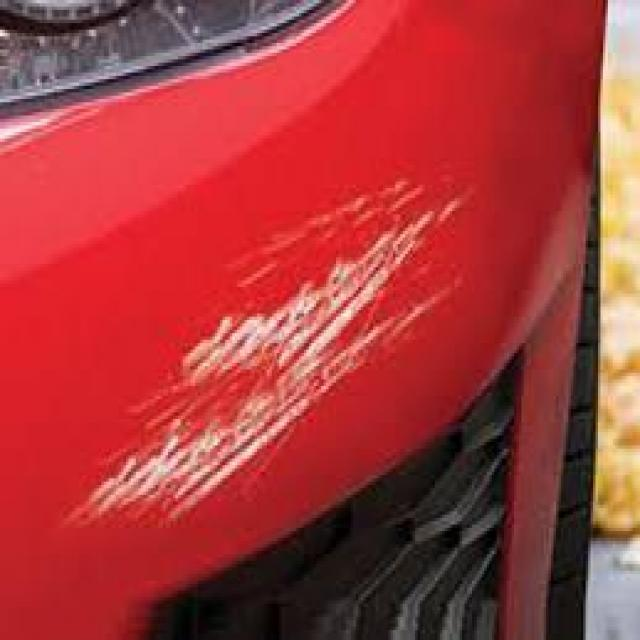scratch: (64, 137, 487, 569)
